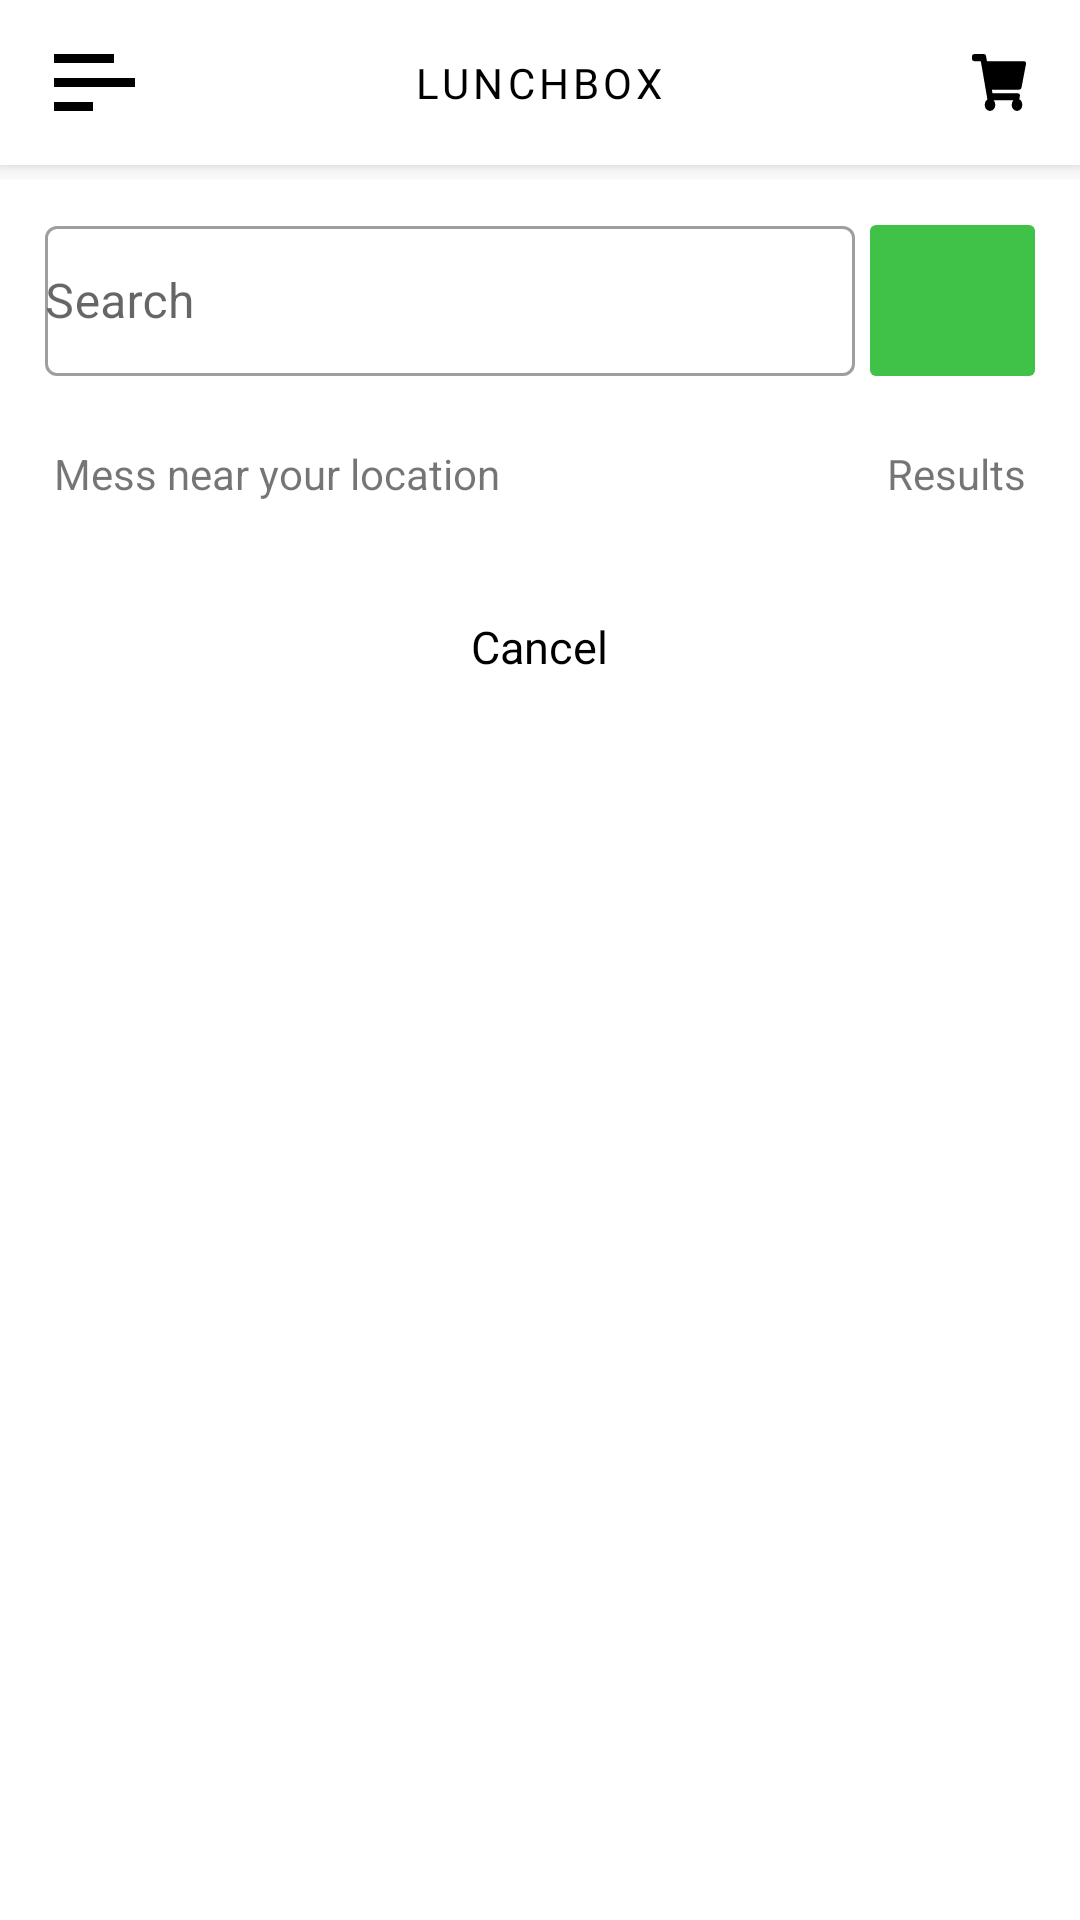

Where icons sit on this 1080x1920 app screen, as (x1, y1, x2, y2):
menu: (54, 54, 135, 111)
shopping cart: (972, 54, 1026, 111)
